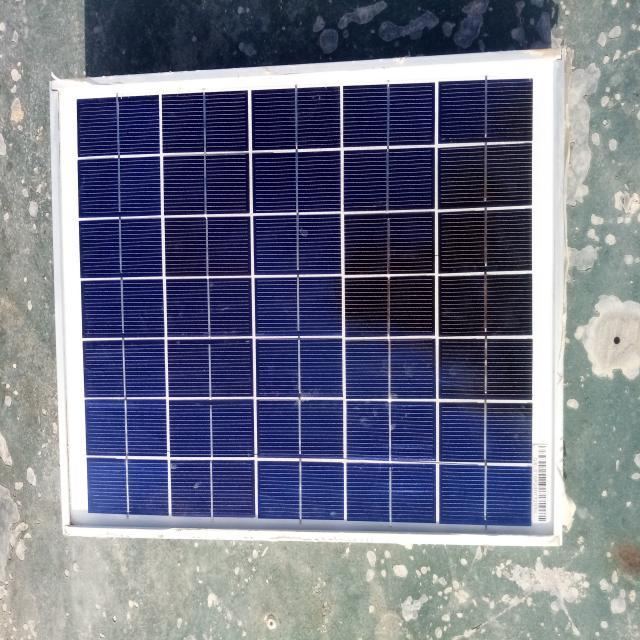no faulty: (55, 49, 562, 541)
